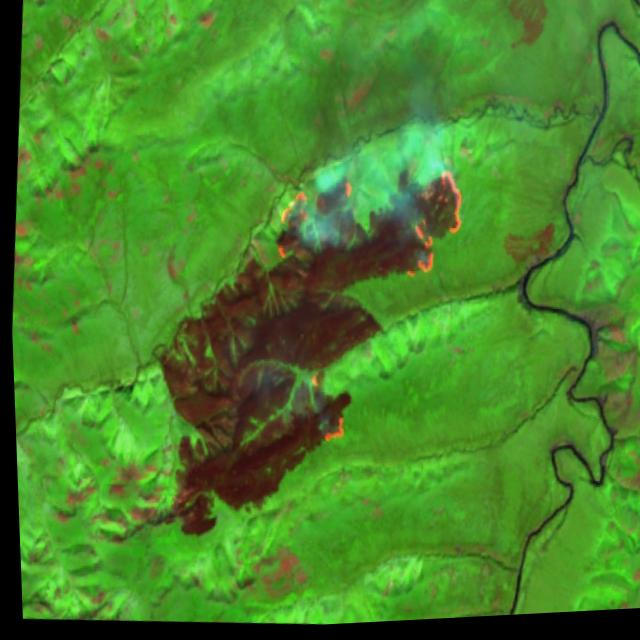fire: (265, 156, 466, 293), (299, 371, 348, 447)
